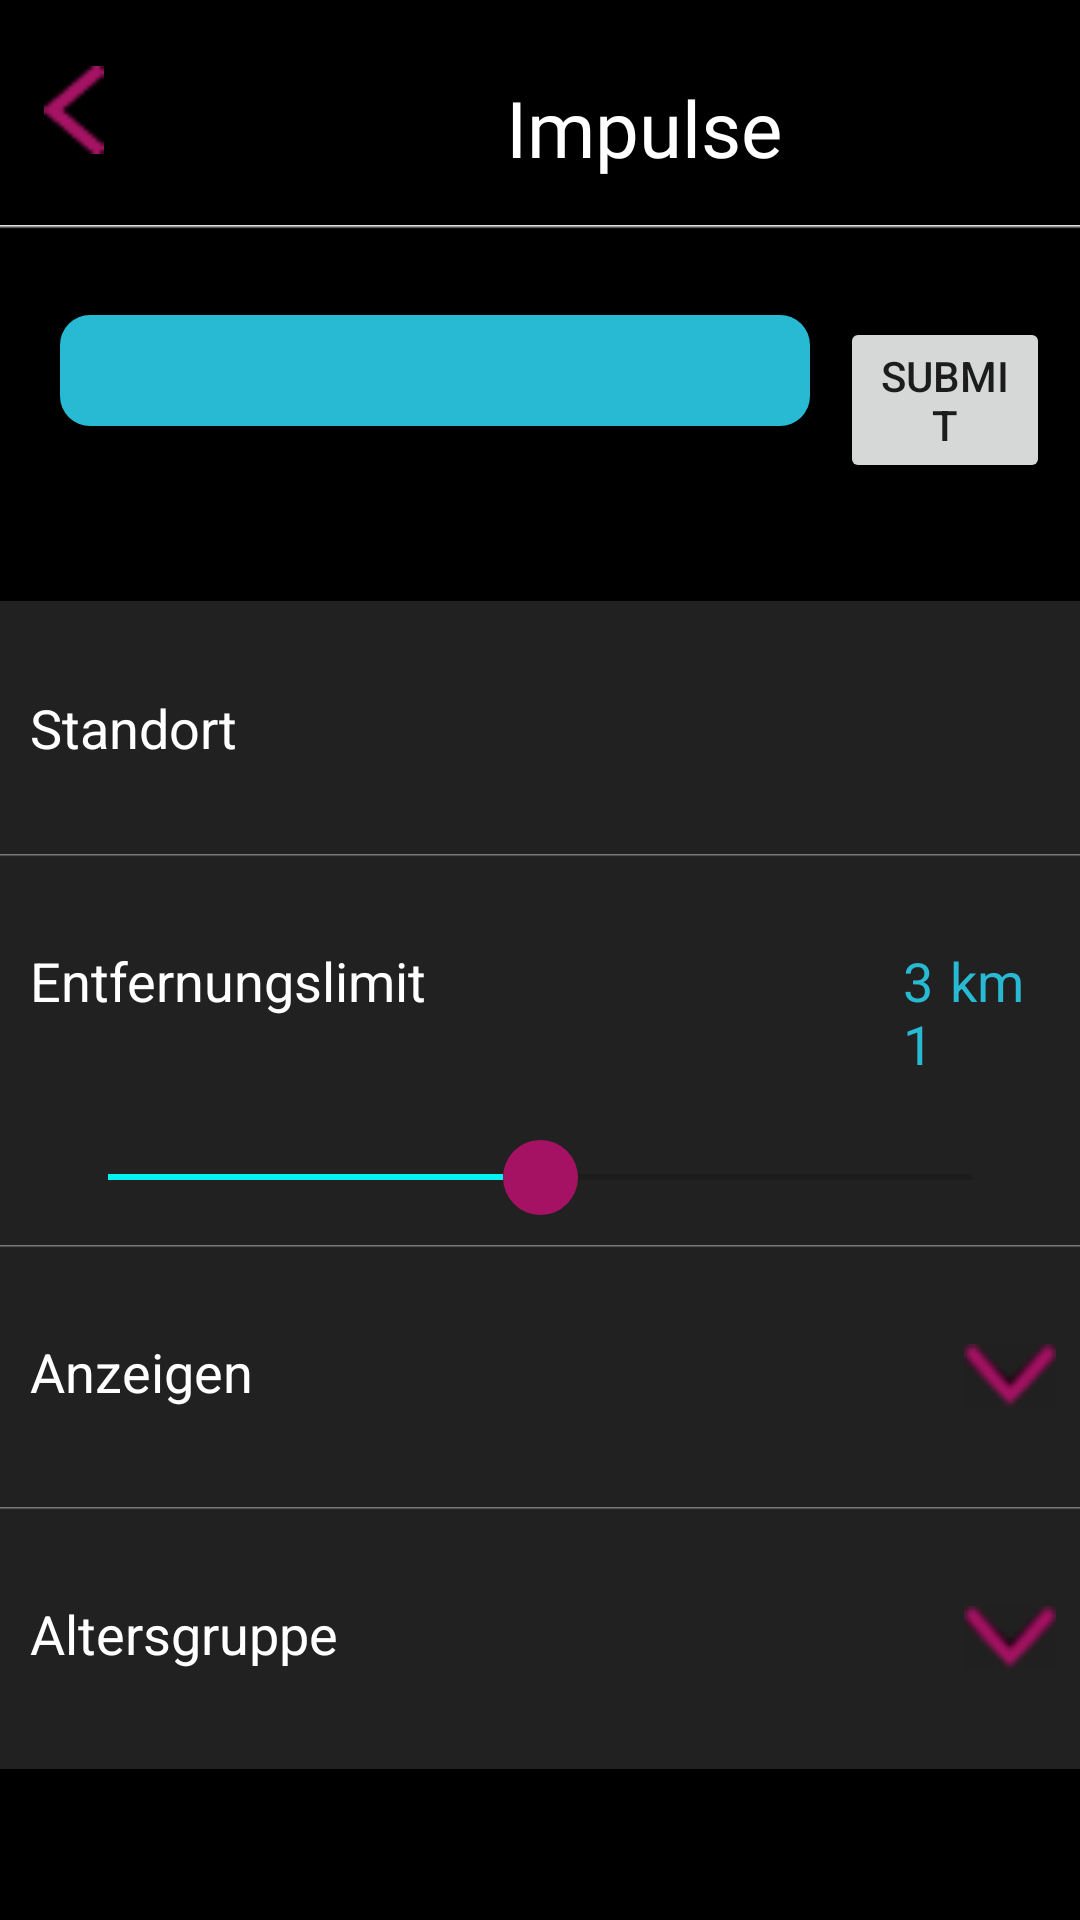

Point at icon controls on the screen. Image size 1080px x 1920px, points as (x,y).
zurueck: (74,110)
